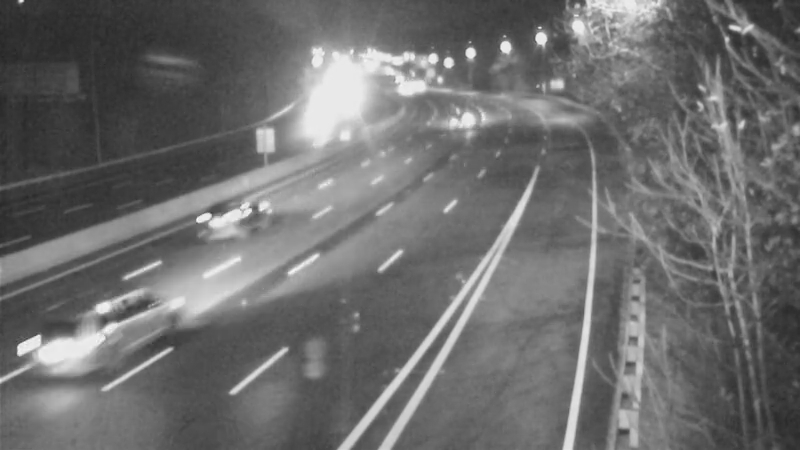vehicle: (53, 275, 163, 385), (180, 181, 260, 261), (380, 65, 430, 115), (433, 97, 483, 147)
